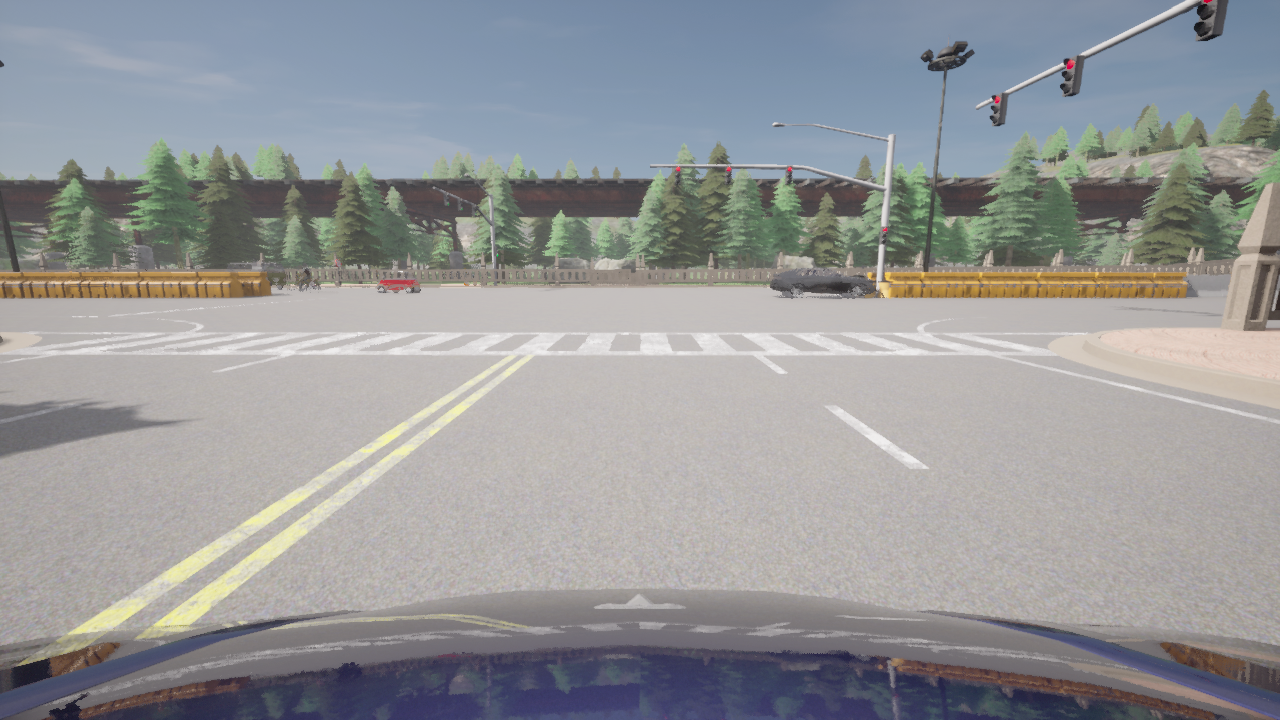cyclist: (0, 588, 1279, 719), (770, 267, 875, 298), (224, 262, 287, 290), (376, 270, 420, 294), (289, 277, 318, 293)
pedestrian: (463, 264, 467, 284), (472, 273, 475, 284)
